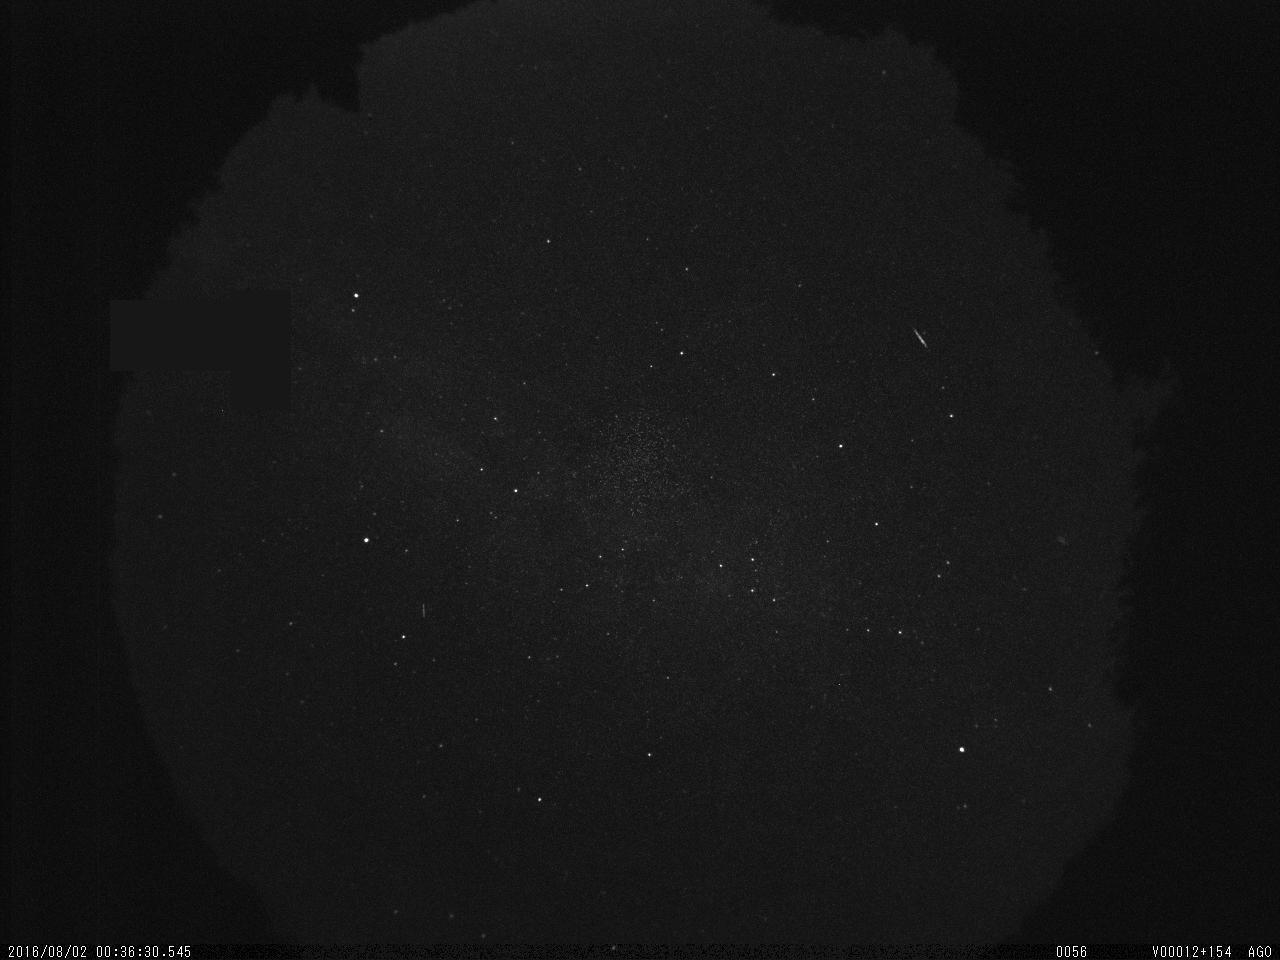meteor: (900, 317, 949, 365)
